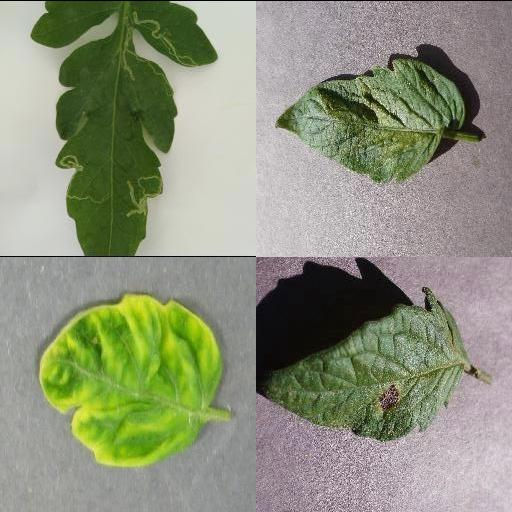Early Blight: (262, 284, 472, 441)
Leaf Miner: (53, 37, 179, 256), (133, 0, 221, 68)
Spider Mites: (273, 56, 467, 181)
Yellow Leaf Curl Virus: (39, 292, 223, 466)
